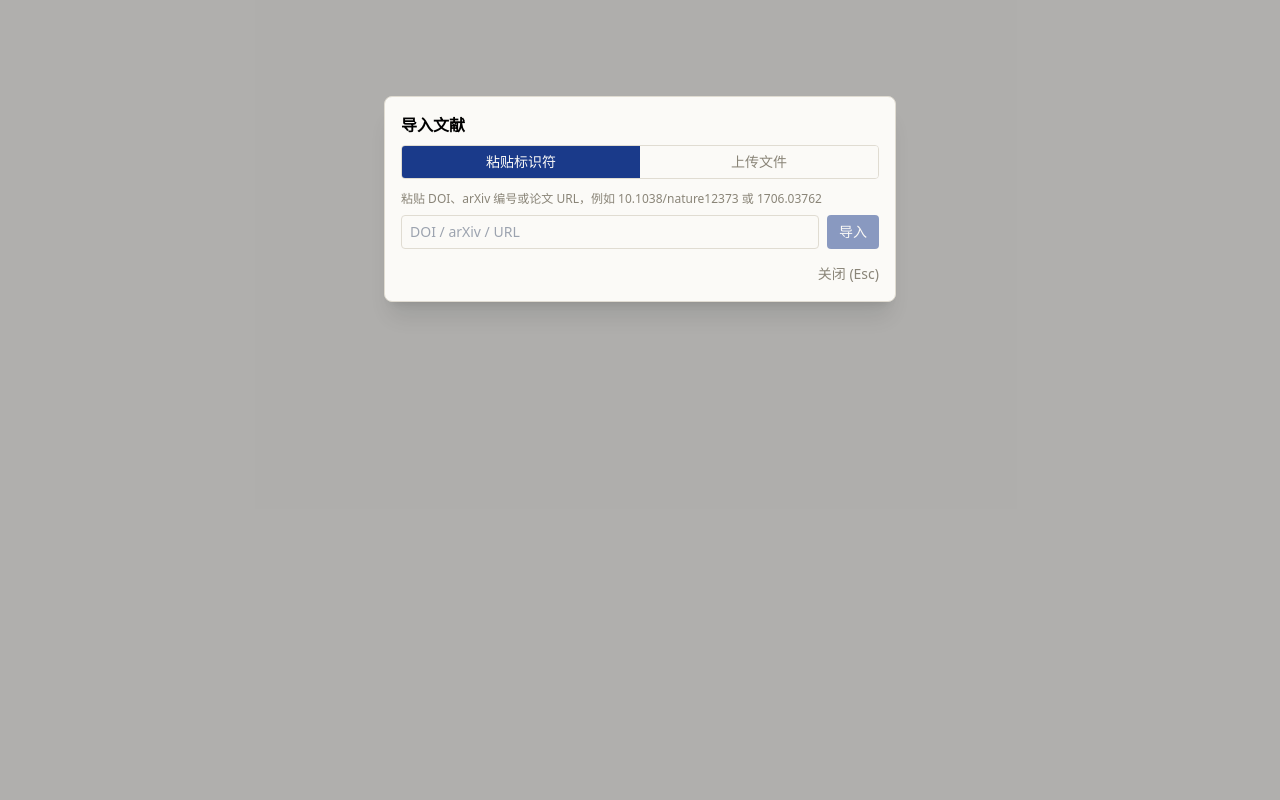
it: 导入对话框 › 重复 DOI → 显示「重复条目」徽标
The width and height of the screenshot is (1280, 800).
Type "10.48550/arXiv.2005.14165" into the field named "标识符".
click(610, 232); type("10.48550/arXiv.2005.14165")  # box [401,215,819,249]
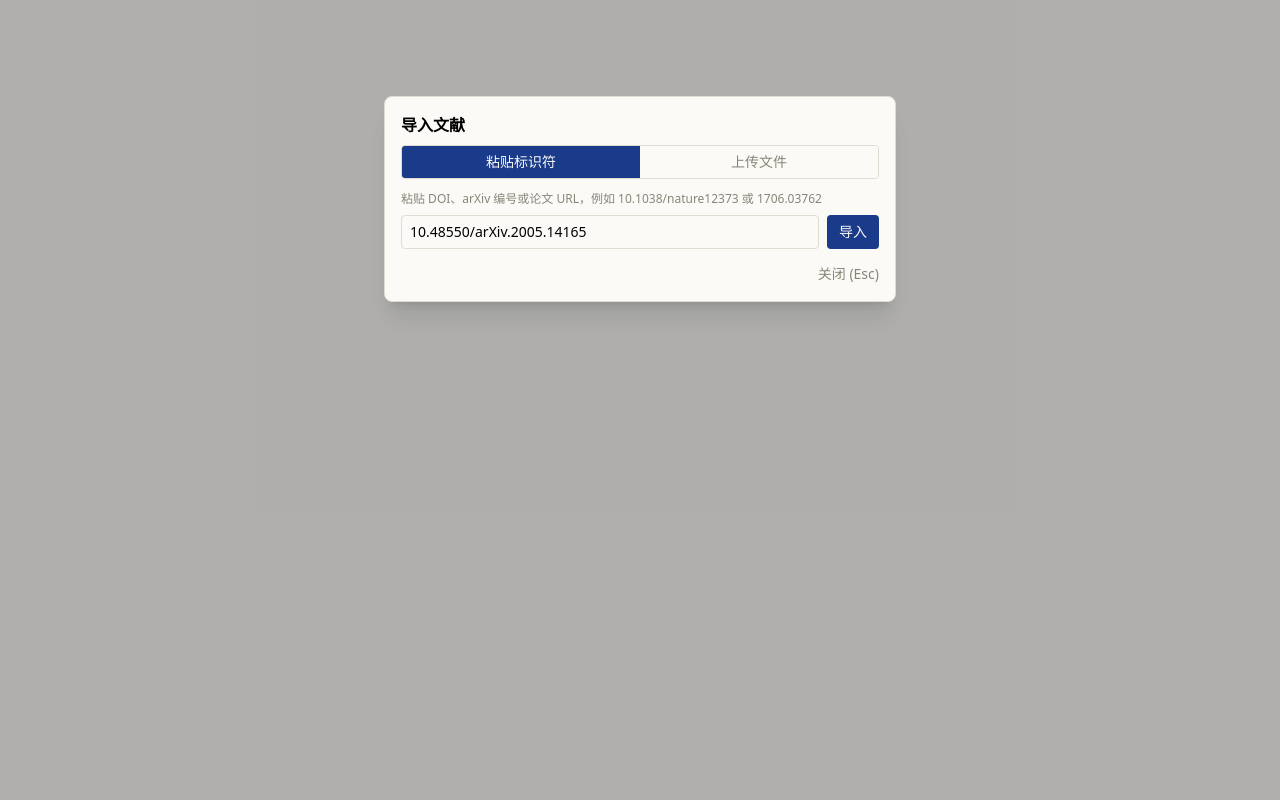
Click the button "导入".
click(853, 232)  # box [827,215,879,249]
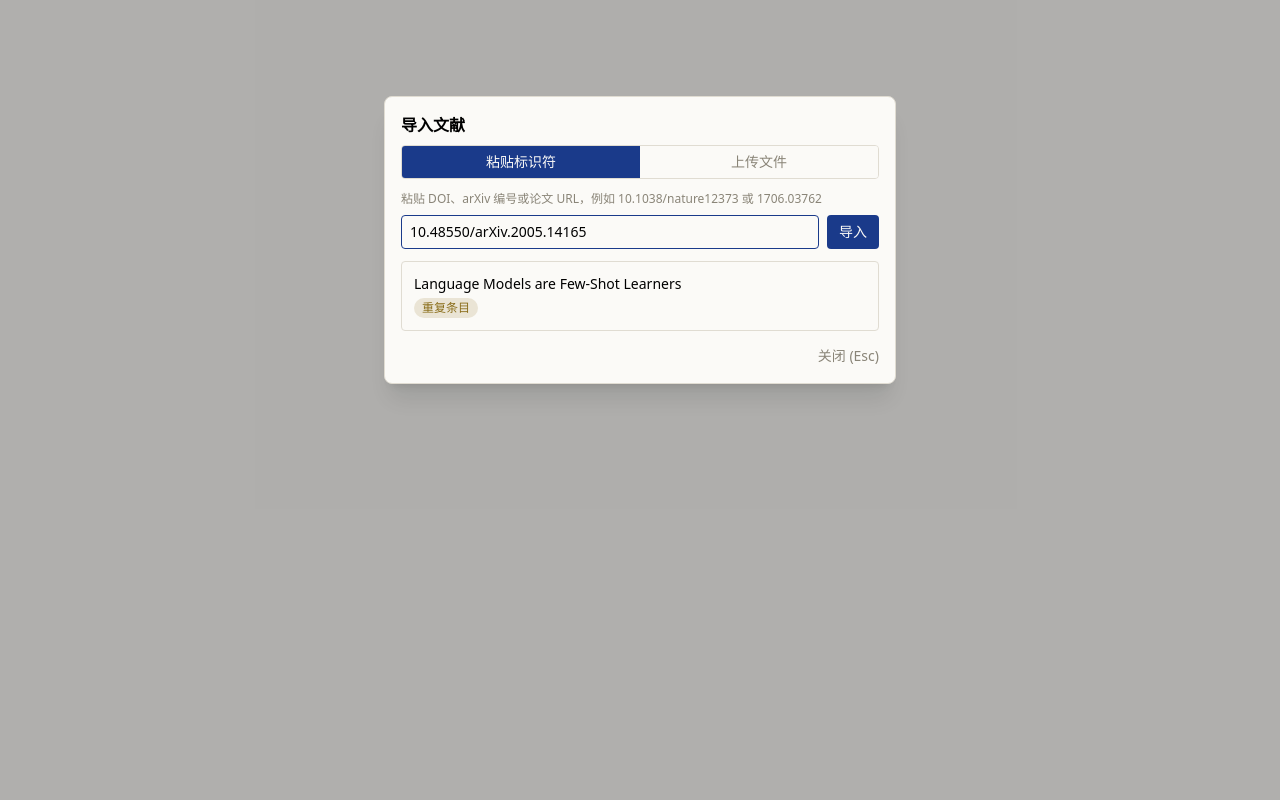
Check: the element named "导入结果" shows "重复条目", box [422,299,470,316]
Check: the element named "导入结果" shows "Language Models are Few-Shot Learners", box [414,274,681,293]
